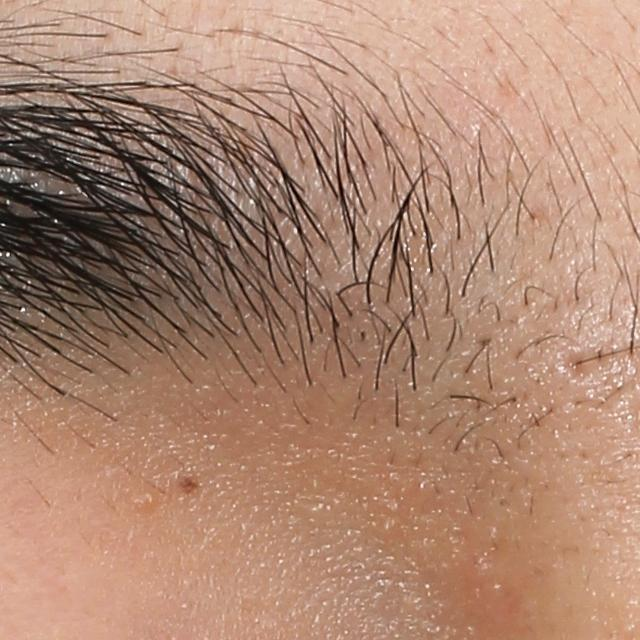atrophic_scar: (558, 346, 596, 385)
comedo: (130, 490, 159, 516)
nevus: (173, 475, 198, 494)
